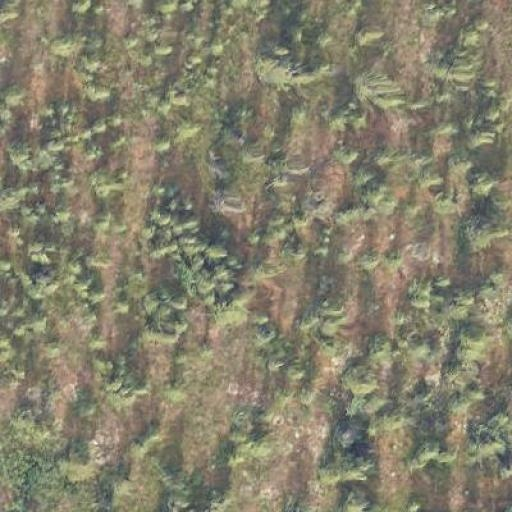tree-top: (146, 188, 242, 304), (0, 438, 69, 512), (402, 271, 474, 331), (252, 37, 324, 88), (6, 129, 81, 174), (348, 165, 404, 225), (89, 353, 149, 408), (292, 290, 348, 344), (307, 449, 380, 489), (426, 40, 480, 92), (350, 63, 404, 114), (461, 414, 512, 463), (448, 325, 494, 370), (460, 211, 504, 256), (0, 176, 49, 209), (364, 327, 401, 369), (210, 293, 255, 327), (87, 163, 125, 202), (163, 473, 200, 512), (408, 328, 446, 365), (342, 365, 382, 395), (466, 168, 500, 201), (24, 271, 60, 302), (408, 438, 442, 470), (44, 30, 76, 62), (242, 431, 272, 463), (0, 82, 30, 113), (27, 238, 57, 266), (90, 207, 116, 233), (347, 492, 376, 512)
